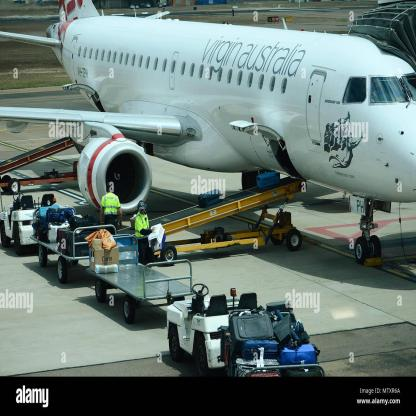airport-trolley: (92, 237, 191, 322), (227, 290, 324, 376), (32, 208, 115, 280), (74, 229, 76, 230)
